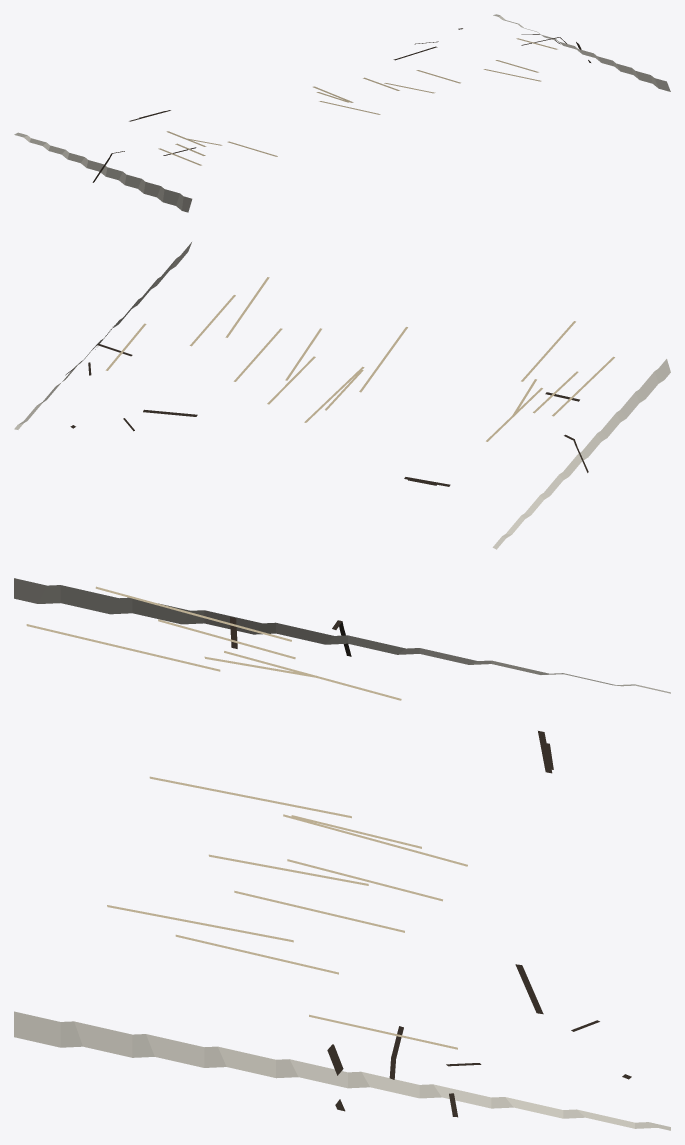
Rendered from dam_shelf_lip_detail1.glb.
3 renders of one model, top to bottom at view 1: azimuth 30°, elevation 25°; view 2: azimuth 150°, elevation 25°; view 3: azimuth 270°, elevation 25°, orthographic. The views are drawn at different scales.
Visible parts, largest first — view 1: dam_shelf_lip_detail1; view 2: dam_shelf_lip_detail1; view 3: dam_shelf_lip_detail1.
Boxes of the visible parts, box(x1,y1,x2,y2) form: dam_shelf_lip_detail1: box(14, 14, 670, 212); dam_shelf_lip_detail1: box(14, 242, 670, 549); dam_shelf_lip_detail1: box(14, 578, 670, 1130).
Size of the model in its own units: 30 by 4.68 by 18.3.
